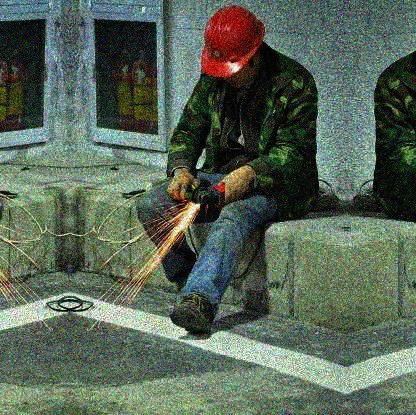helmet: (200, 6, 265, 87)
